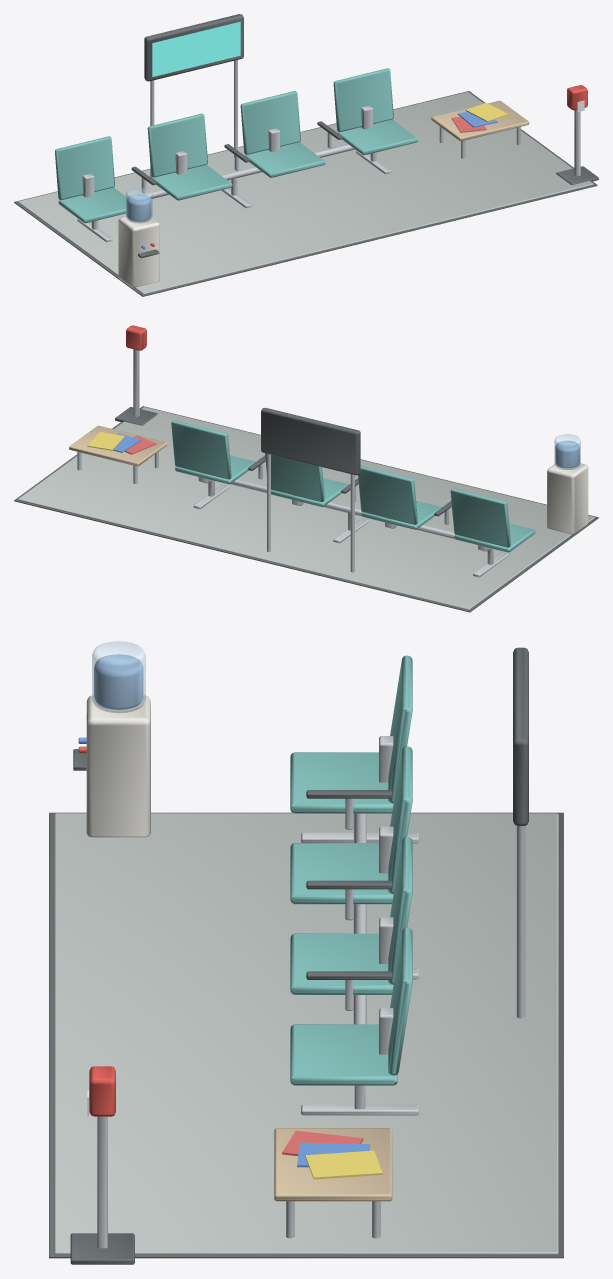
File: sala_espera.glb
3 renders of one model, top to bottom at view 1: azimuth 30°, elevation 25°; view 2: azimuth 150°, elevation 25°; view 3: azimuth 270°, elevation 25°, orthographic. The views are drawn at different scales.
Parts seen in each view (by area): view 1: moqueta, pantalla, silla0_respaldo, silla1_respaldo, silla3_respaldo, silla2_respaldo, fuente_cuerpo, moqueta_ribete, pantalla_marco, silla1_asiento, silla2_asiento, silla3_asiento (+9 smaller); view 2: moqueta, pantalla_marco, fuente_cuerpo, silla0_respaldo, silla3_respaldo, silla1_respaldo, moqueta_ribete, silla2_respaldo, mesa_tablero, garrafa_fuente, viga, silla0_asiento (+10 smaller); view 3: moqueta, fuente_cuerpo, moqueta_ribete, silla3_asiento, mesa_tablero, silla1_asiento, silla0_asiento, silla2_asiento, garrafa_fuente, pantalla_marco, garrafa_agua_fuente, silla3_respaldo (+14 smaller).
Boxes of the visible parts, x1,y1,x2,y2 form: moqueta: (18, 92, 593, 294); pantalla: (152, 21, 240, 76); silla0_respaldo: (55, 136, 114, 200); silla1_respaldo: (147, 113, 207, 177); silla3_respaldo: (333, 68, 393, 132); silla2_respaldo: (240, 91, 300, 154); fuente_cuerpo: (118, 216, 159, 288); moqueta_ribete: (14, 91, 597, 296); pantalla_marco: (144, 14, 243, 81); silla1_asiento: (152, 165, 232, 200); silla2_asiento: (245, 142, 325, 177); silla3_asiento: (338, 119, 418, 155); moqueta: (18, 407, 594, 609); pantalla_marco: (261, 407, 360, 475); fuente_cuerpo: (547, 463, 588, 534); silla0_respaldo: (450, 488, 510, 547); silla3_respaldo: (171, 420, 231, 479); silla1_respaldo: (358, 466, 417, 524); moqueta_ribete: (14, 406, 598, 612); silla2_respaldo: (265, 453, 324, 502); mesa_tablero: (69, 425, 167, 466); garrafa_fuente: (554, 434, 580, 469); viga: (230, 479, 455, 539); silla0_asiento: (454, 523, 535, 552); moqueta: (54, 813, 558, 1254); fuente_cuerpo: (86, 695, 150, 837); moqueta_ribete: (49, 812, 563, 1258); silla3_asiento: (290, 1024, 397, 1085); mesa_tablero: (274, 1128, 392, 1201); silla1_asiento: (290, 843, 393, 904); silla0_asiento: (290, 752, 393, 813); silla2_asiento: (290, 933, 393, 994); garrafa_fuente: (92, 641, 145, 713); pantalla_marco: (513, 647, 528, 825); garrafa_agua_fuente: (94, 654, 143, 709); silla3_respaldo: (388, 927, 412, 1075).
Size of the model in its own units: 1.99 by 0.59 by 0.96.
